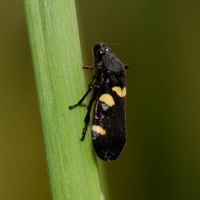insect: (69, 43, 127, 160)
